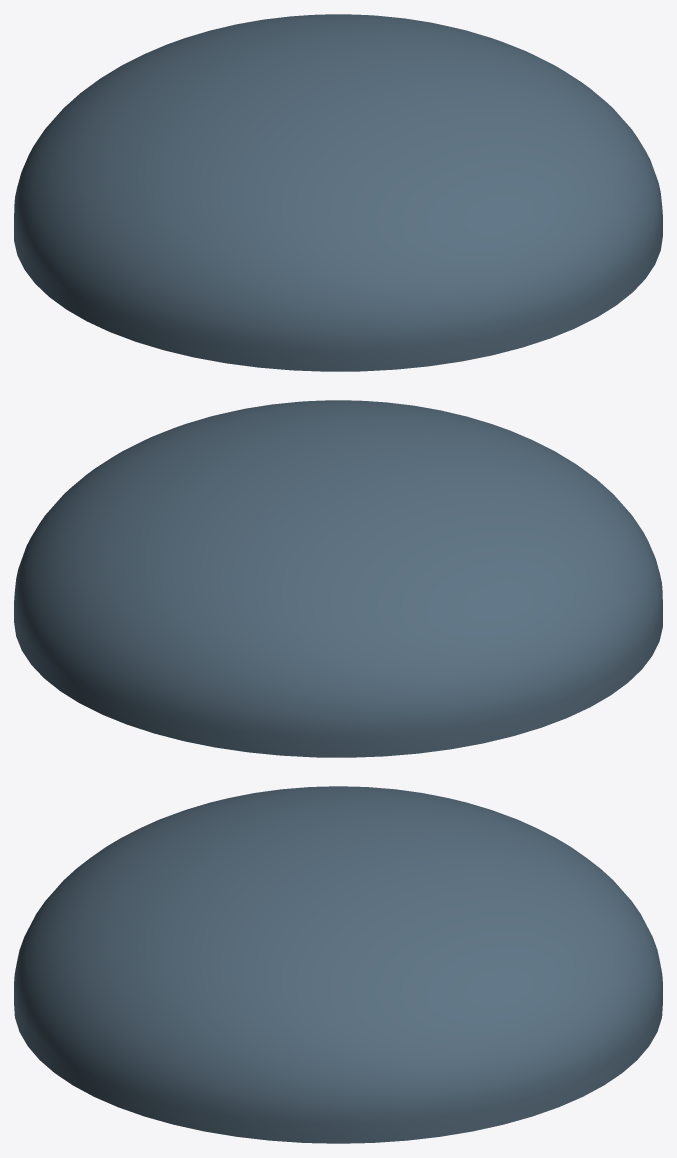
File: dnishche-1220x12.glb
3 renders of one model, top to bottom at view 1: azimuth 30°, elevation 25°; view 2: azimuth 150°, elevation 25°; view 3: azimuth 270°, elevation 25°, orthographic.
Parts seen in each view (by area): view 1: Open CASCADE STEP translator 7.9 31; view 2: Open CASCADE STEP translator 7.9 31; view 3: Open CASCADE STEP translator 7.9 31.
Boxes of the visible parts, x1,y1,x2,y2 form: Open CASCADE STEP translator 7.9 31: (14, 14, 662, 371); Open CASCADE STEP translator 7.9 31: (14, 400, 662, 757); Open CASCADE STEP translator 7.9 31: (14, 786, 662, 1143).
Size of the model in its own units: 1219 by 345 by 1220.
